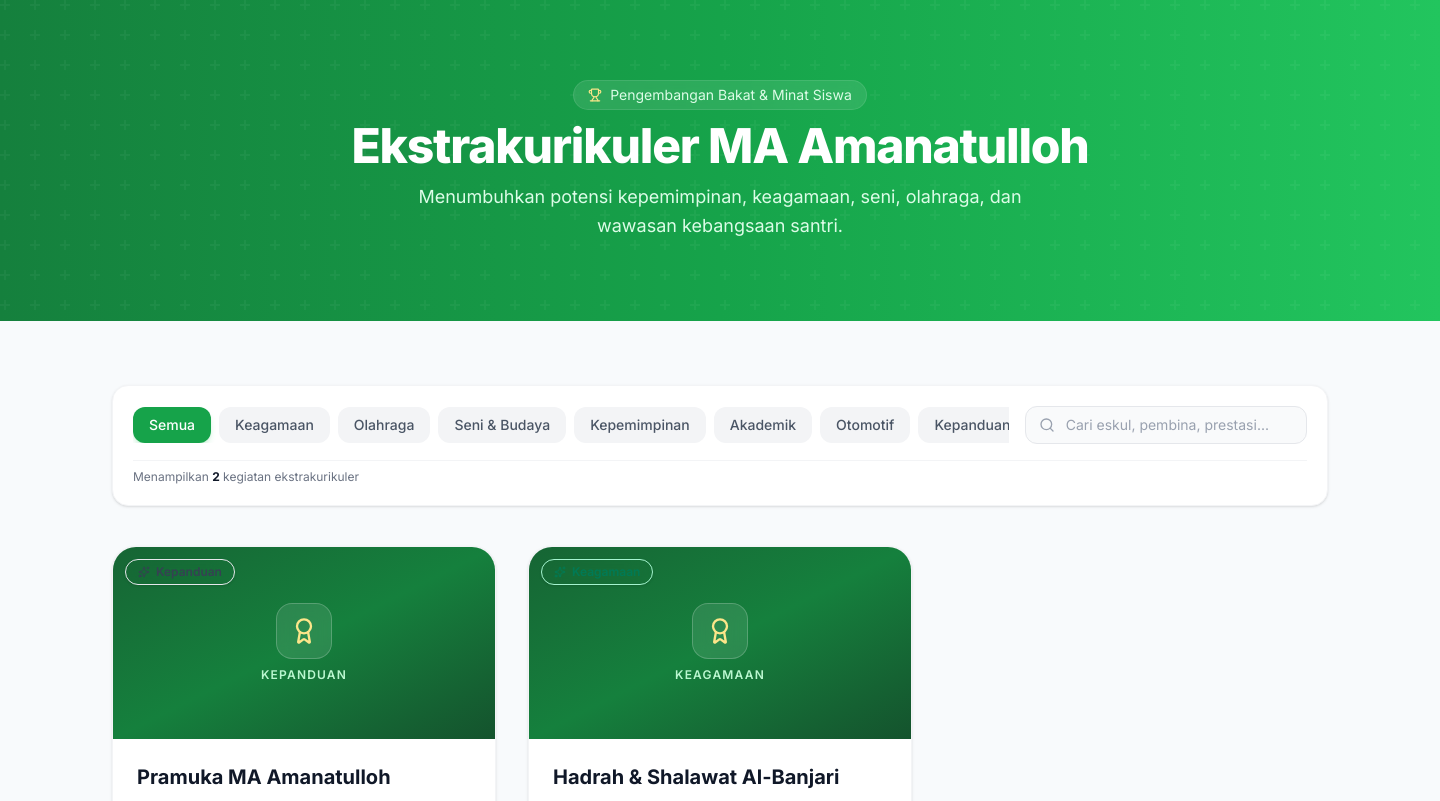
Test case: Ekstrakurikuler Page › memfilter ekstrakurikuler berdasarkan input pencarian
Type "Pramuka" into the field with placeholder "Cari eskul, pembina, prestasi..." at (1166, 424), box [1025,406,1307,444]
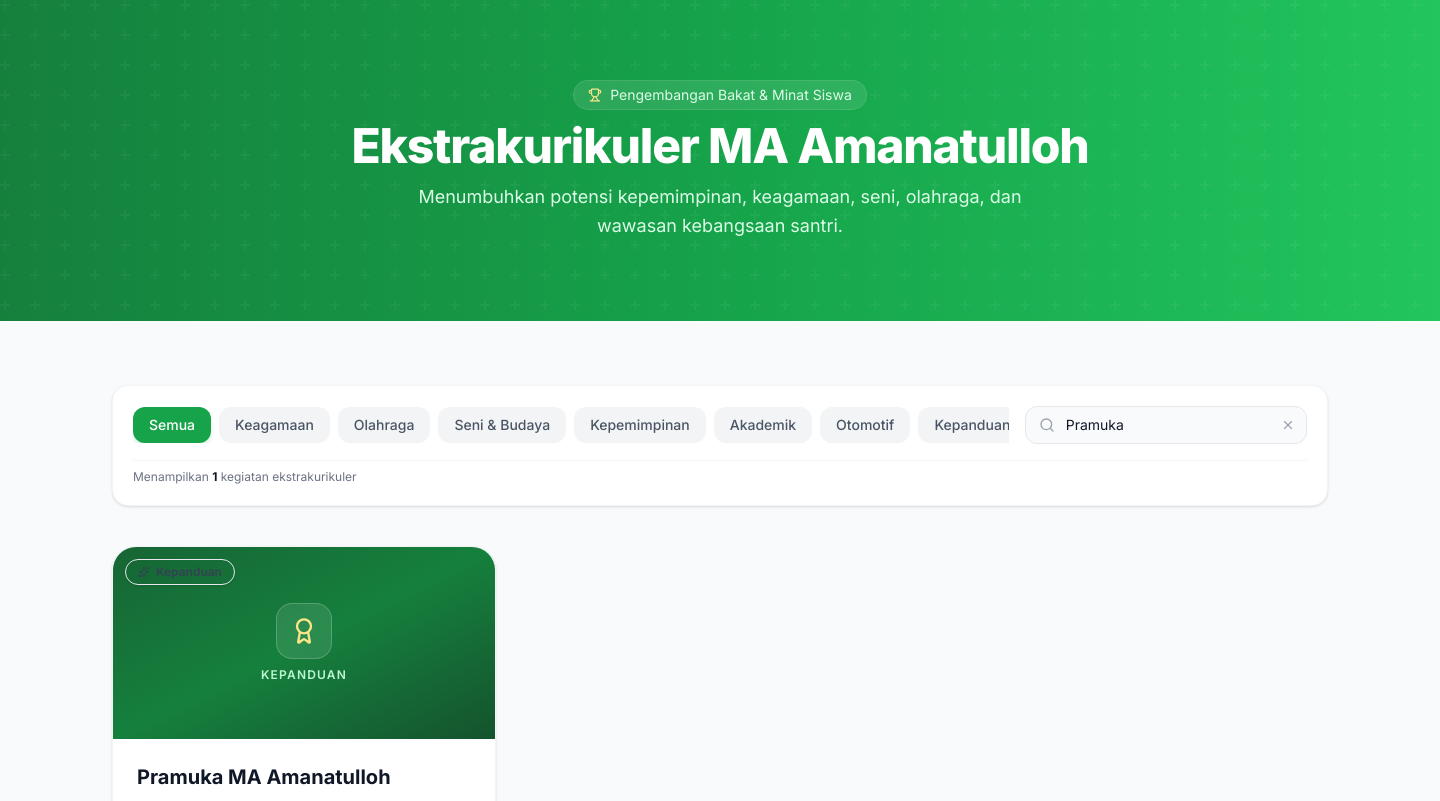
Expected: the heading "Pramuka MA Amanatulloh" is shown, [137,764,391,788]
Now the heading "Hadrah & Shalawat Al-Banjari" is gone
